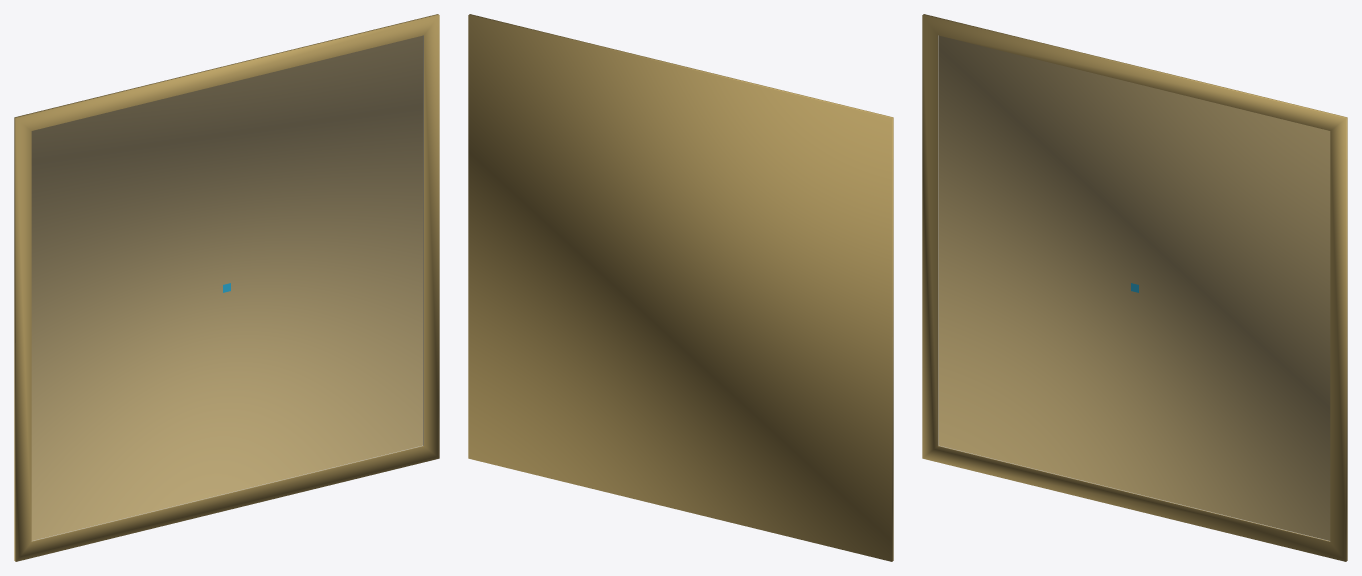
File: picture-frame.glb
The picture shows the model from 3 angles, left to right: view 1: azimuth 30°, elevation 25°; view 2: azimuth 150°, elevation 25°; view 3: azimuth 330°, elevation 25°; orthographic projection.
Parts seen in each view (by area): view 1: __X_FRAME__Frame, __X_COVER__Cover, __X_MAT__Mat; view 2: __X_FRAME__Frame; view 3: __X_FRAME__Frame, __X_COVER__Cover, __X_MAT__Mat.
Boxes of the visible parts, <box> form: __X_FRAME__Frame: <box>14,14,439,561</box>; __X_COVER__Cover: <box>32,36,423,540</box>; __X_MAT__Mat: <box>33,35,423,540</box>; __X_FRAME__Frame: <box>468,14,893,561</box>; __X_FRAME__Frame: <box>922,14,1347,561</box>; __X_COVER__Cover: <box>938,36,1329,540</box>; __X_MAT__Mat: <box>938,35,1328,540</box>.
Bounding box in the file's own units: 2.2 × 2.2 × 0.015.
